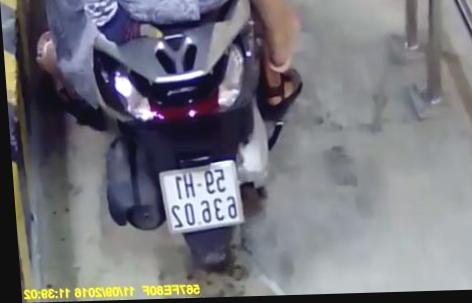License_Plate: (152, 157, 246, 238)
